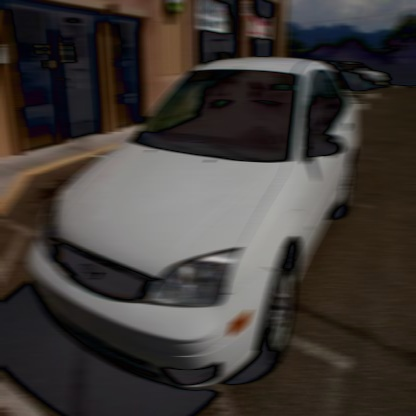Vehicle: (25, 57, 357, 393)
